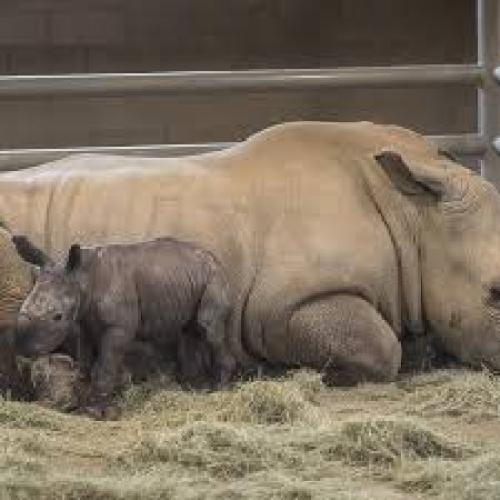rhino-endangered: (0, 117, 500, 412), (13, 237, 231, 395)
